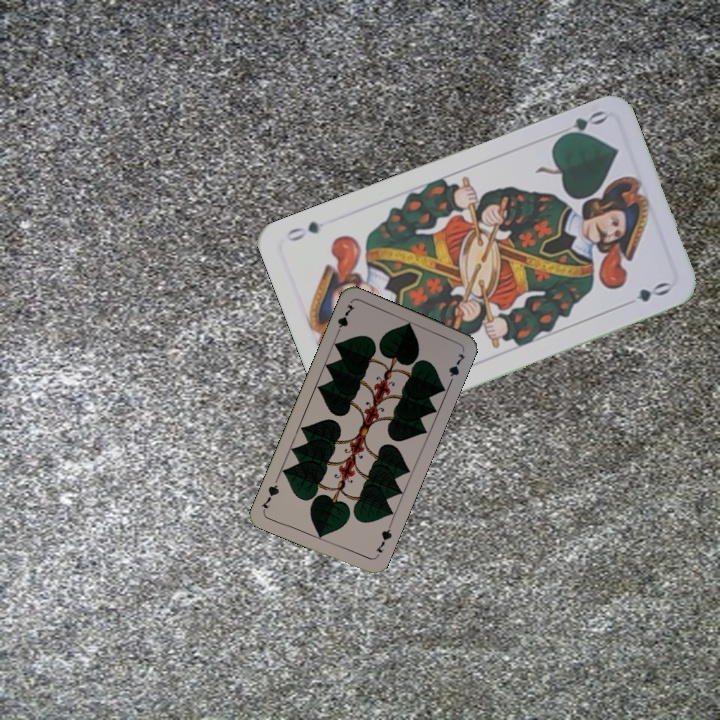G7: (332, 300, 357, 339), (371, 521, 395, 555)
GO: (553, 106, 609, 143)
